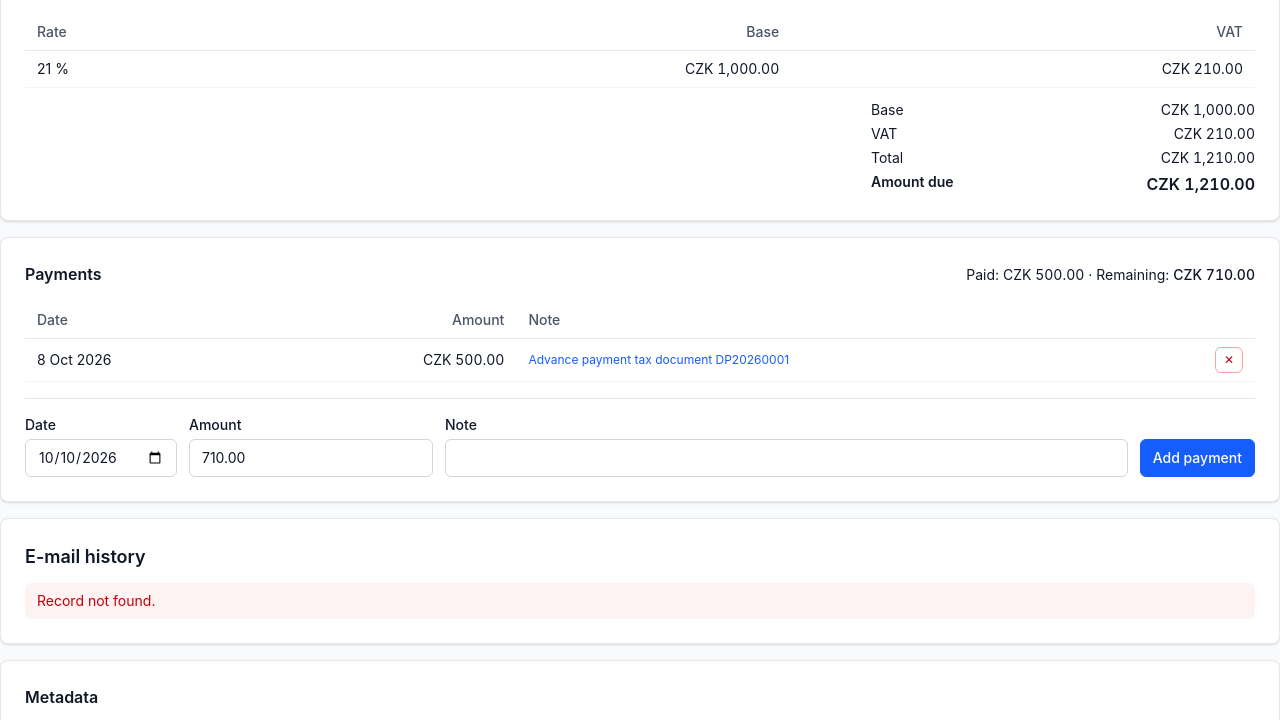
Test: detail per document type › advance_in_use links the draft final invoice that deducts the payment
(page scrolled)
Click the button with test id "delete-payment".
click(1229, 360)  # box [1215,347,1243,373]
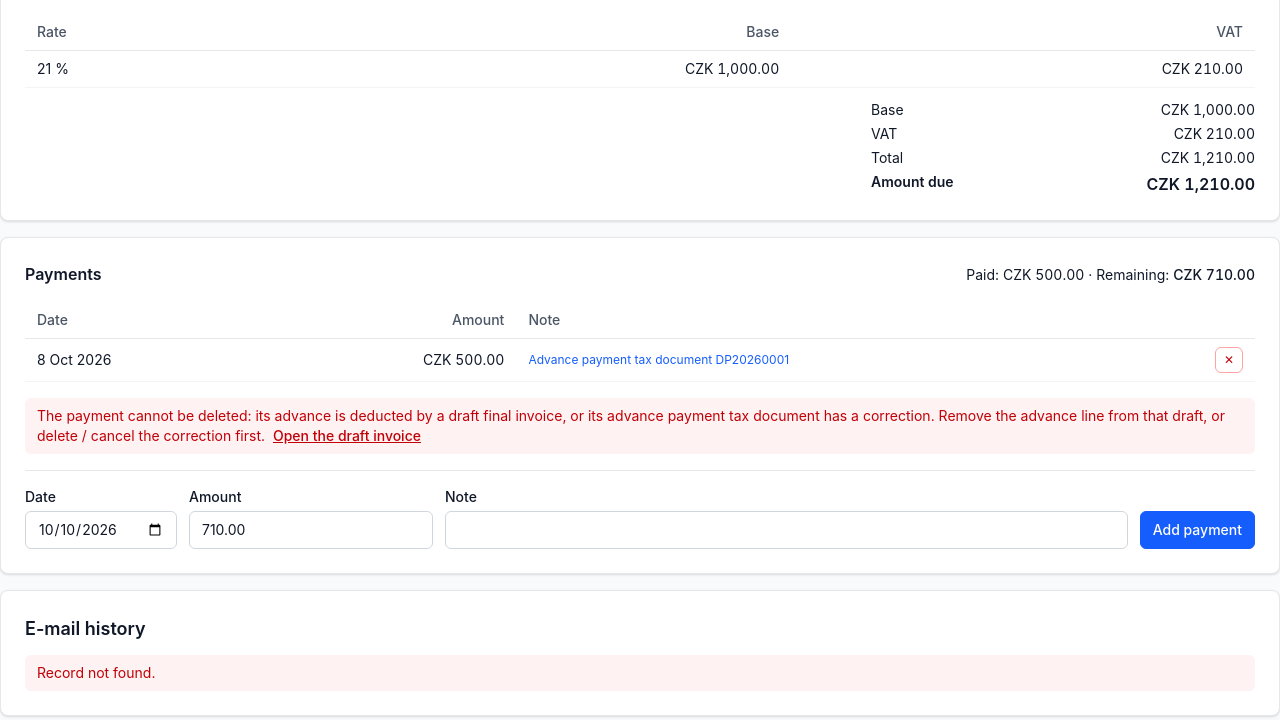
expect the message with test id "payment-error" shows "Remove the advance line from that draft": met, box [37,407,1225,444]
